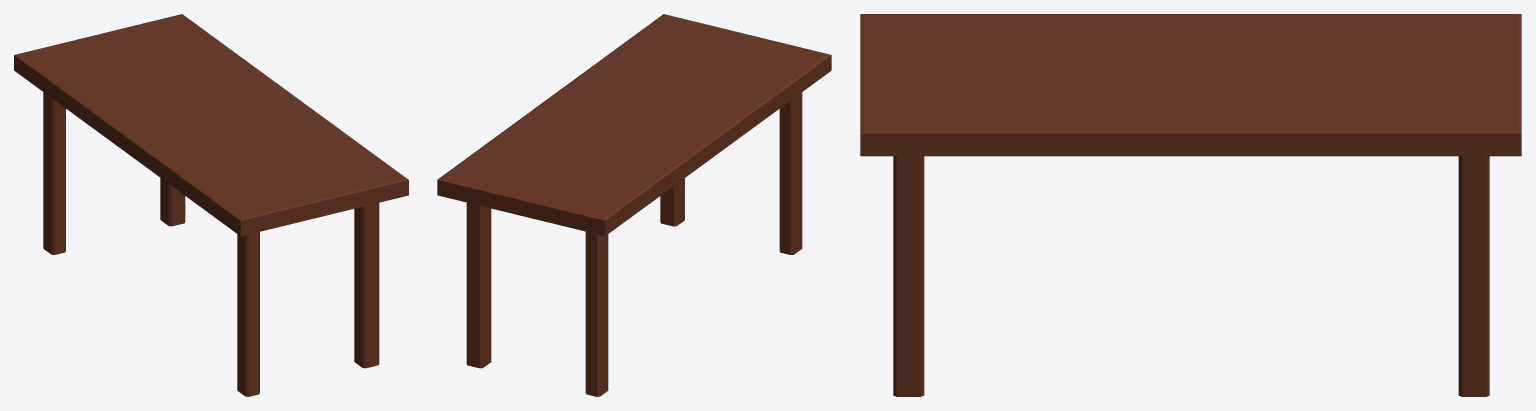
The model's file is TableForPots.fbx.
3 views of the same model, side by side, from view 1: azimuth 30°, elevation 25°; view 2: azimuth 150°, elevation 25°; view 3: azimuth 270°, elevation 25° (orthographic). The views are drawn at different scales.
Parts seen in each view (by area): view 1: TableForPots; view 2: TableForPots; view 3: TableForPots.
Boxes of the visible parts, x1,y1,x2,y2 form: TableForPots: (14, 14, 408, 396); TableForPots: (437, 14, 831, 396); TableForPots: (860, 14, 1521, 396).
Size of the model in its own units: 103 by 111 by 240.
